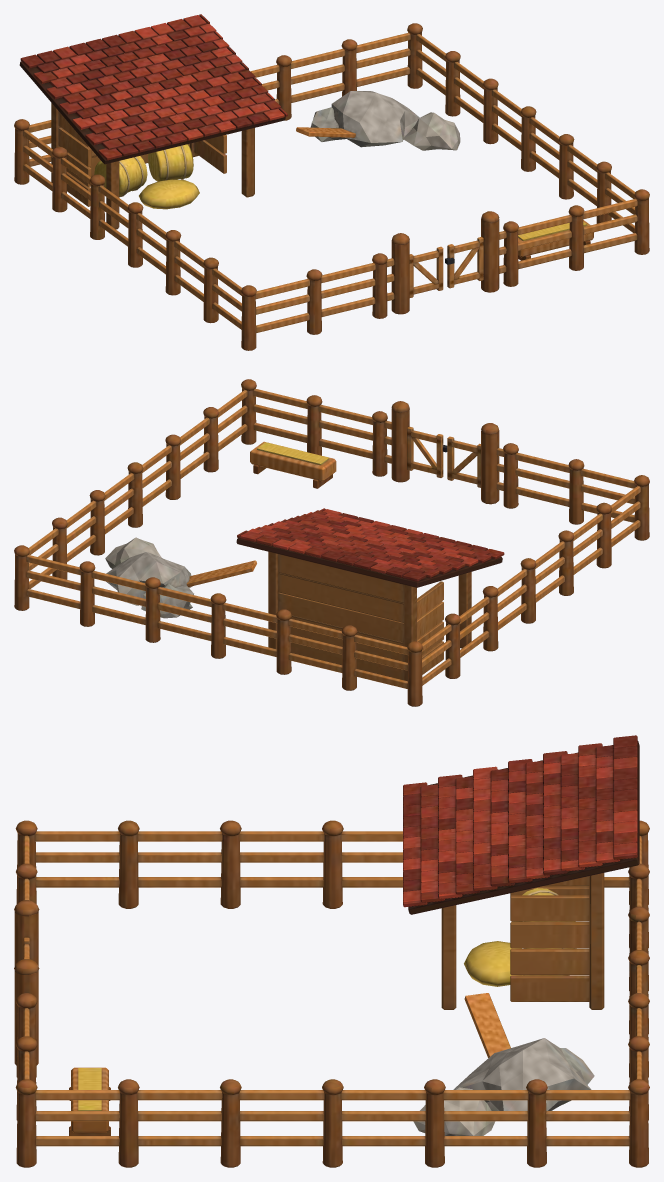
File: nubian_yard.glb
3 renders of one model, top to bottom at view 1: azimuth 30°, elevation 25°; view 2: azimuth 150°, elevation 25°; view 3: azimuth 270°, elevation 25°, orthographic. The views are drawn at different scales.
Visible parts, largest first — view 1: nubian_yard, gate1, gate0; view 2: nubian_yard, gate1, gate0; view 3: nubian_yard.
Boxes of the visible parts, x1=… form: nubian_yard: x1=14, y1=14, x2=649, y2=350; gate1: x1=445, y1=236, x2=483, y2=288; gate0: x1=409, y1=246, x2=443, y2=297; nubian_yard: x1=14, y1=379, x2=649, y2=706; gate1: x1=407, y1=426, x2=447, y2=477; gate0: x1=447, y1=436, x2=480, y2=487; nubian_yard: x1=14, y1=735, x2=649, y2=1167.
Size of the model in its own units: 3 by 0.9345 by 3.01.
Materials: 1 (1 with a texture image).
